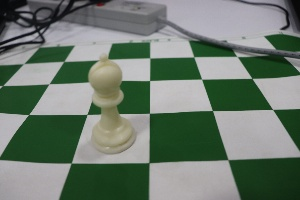white_bishop: (83, 43, 142, 161)
